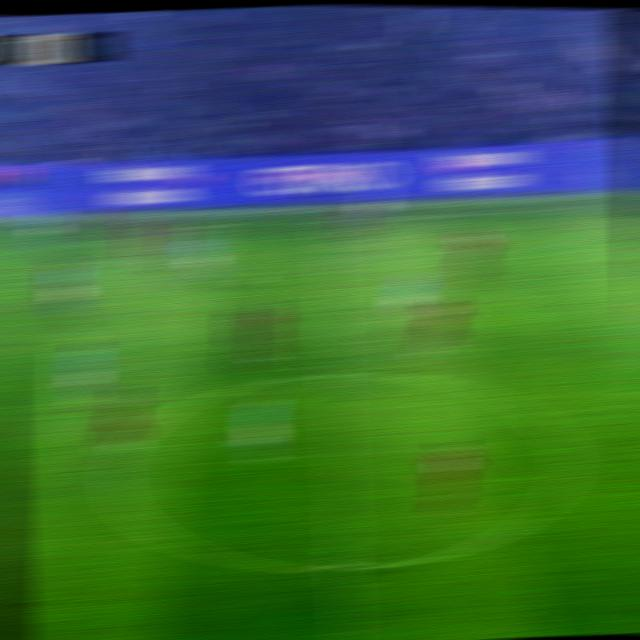halfcircle_bottom: (318, 547, 368, 588)
halfcircle_top: (310, 356, 358, 393)
midline_top_intersection: (308, 208, 344, 236)
